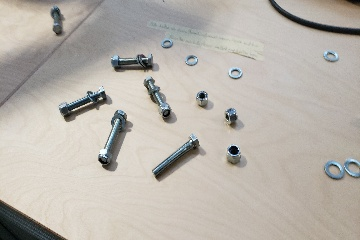Bolt: (146, 130, 206, 182)
FalseAssembly: (93, 108, 132, 167), (58, 84, 108, 122), (49, 3, 64, 36)
FinishedAssembly: (140, 75, 177, 122), (108, 52, 158, 73)
Nut: (225, 143, 243, 166), (222, 107, 240, 126), (193, 90, 211, 108)
Washer: (322, 160, 346, 181), (343, 155, 360, 178), (322, 49, 340, 63), (227, 67, 244, 80), (160, 38, 174, 51), (184, 54, 198, 67)
